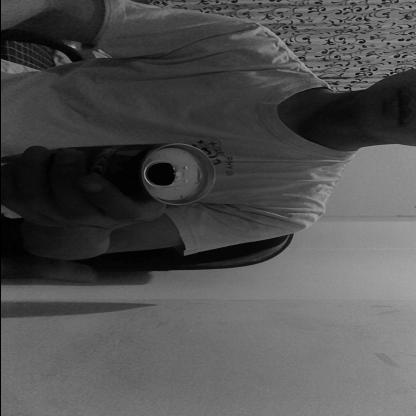alumunium_can: (0, 142, 218, 206)
